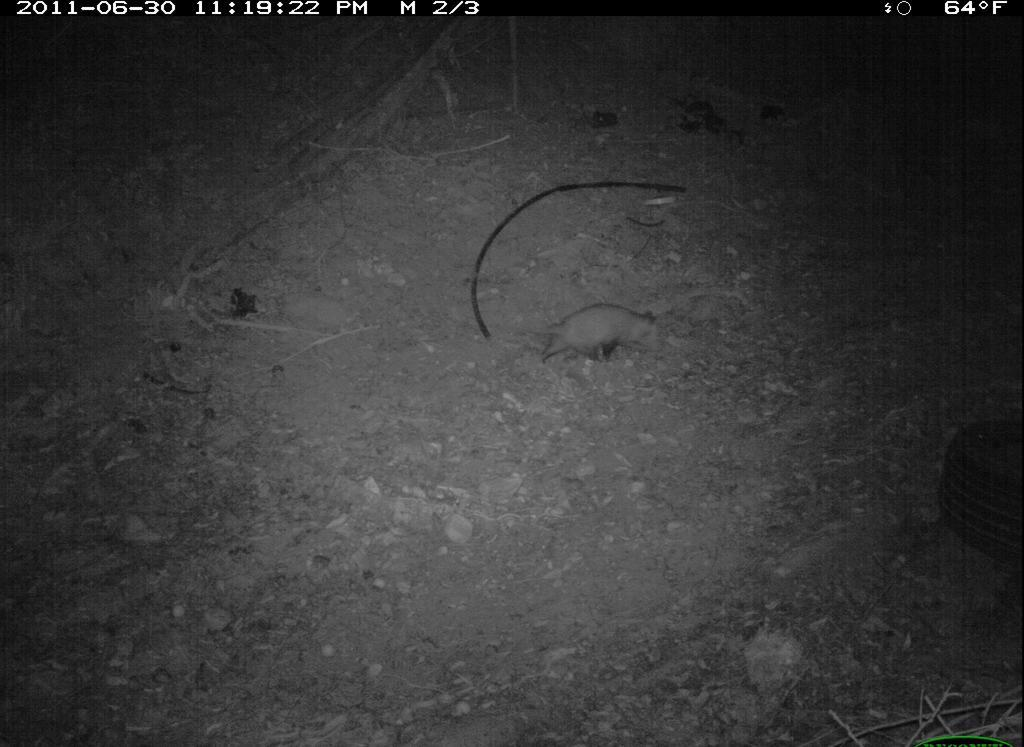opossum: (504, 304, 667, 376)
